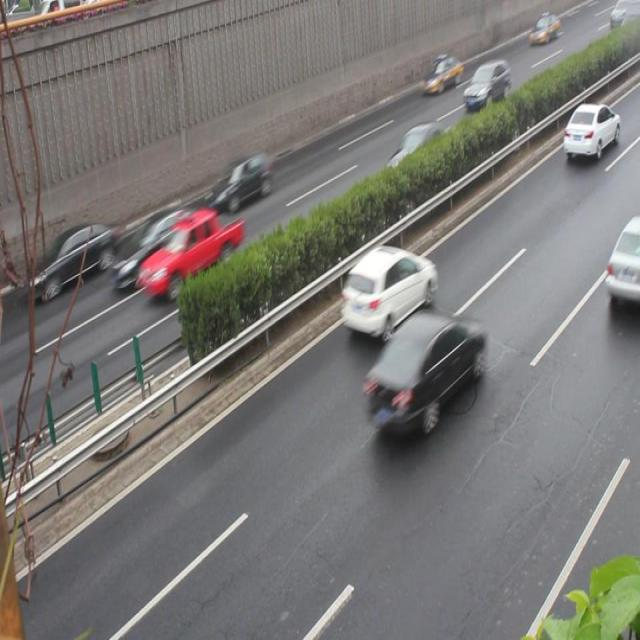car: (362, 316, 484, 431), (339, 243, 436, 339), (138, 210, 242, 296), (112, 210, 200, 294), (30, 222, 118, 304), (382, 121, 455, 182), (211, 155, 273, 214), (560, 100, 618, 160), (604, 219, 640, 304), (461, 61, 509, 112)
